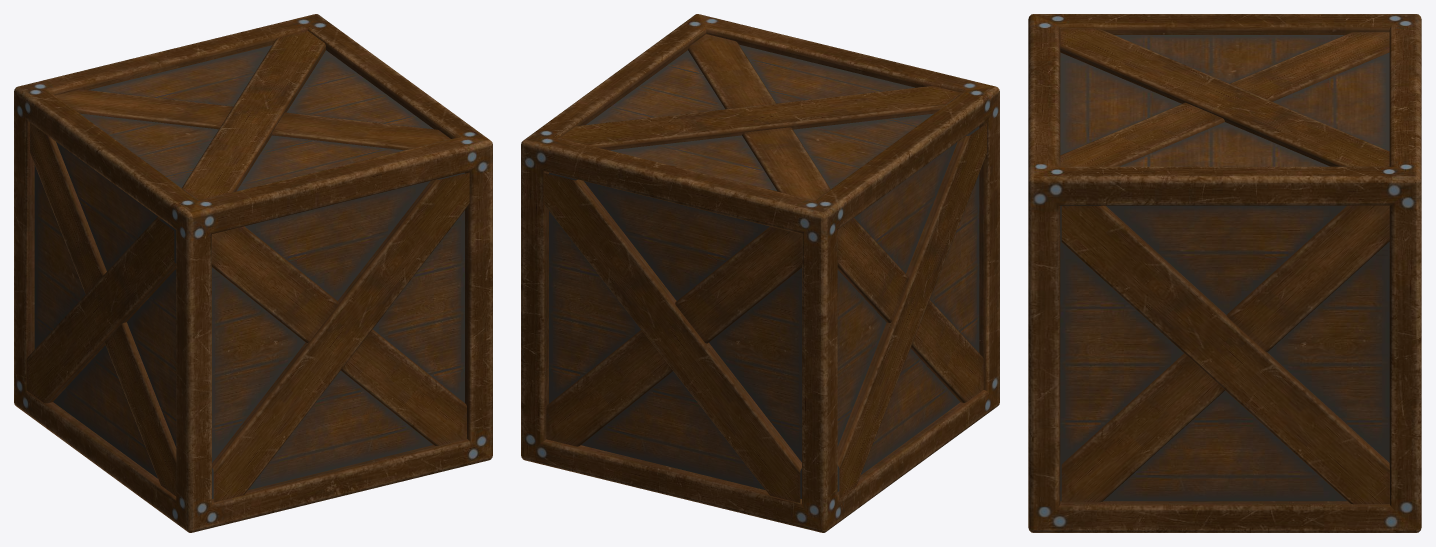
File: crate.glb
The picture shows the model from 3 angles, left to right: view 1: azimuth 30°, elevation 25°; view 2: azimuth 150°, elevation 25°; view 3: azimuth 270°, elevation 25°; orthographic projection. The views are drawn at different scales.
Parts seen in each view (by area): view 1: dock; view 2: dock; view 3: dock.
Part boxes in pixels (x1,y1,x2,y2): dock: [14, 14, 492, 532]; dock: [521, 14, 999, 532]; dock: [1028, 14, 1421, 532].
Bounding box in the file's own units: 0.6 × 0.6 × 0.6.
Materials: 1 (1 with a texture image).
